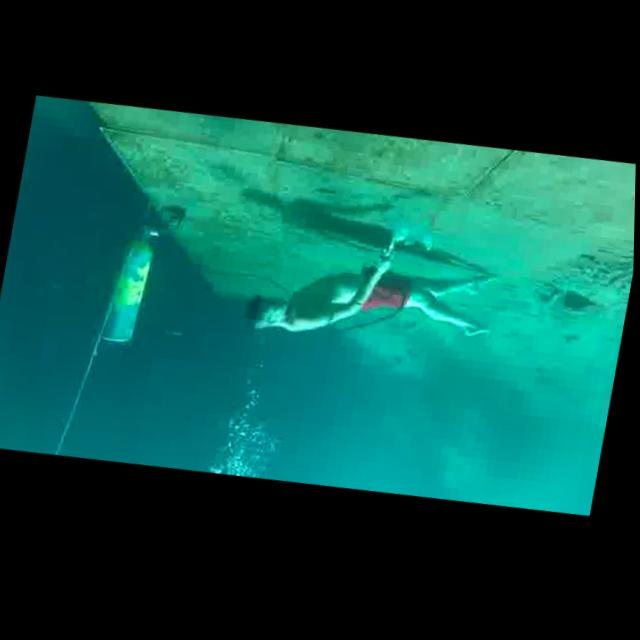human: (238, 227, 509, 376)
